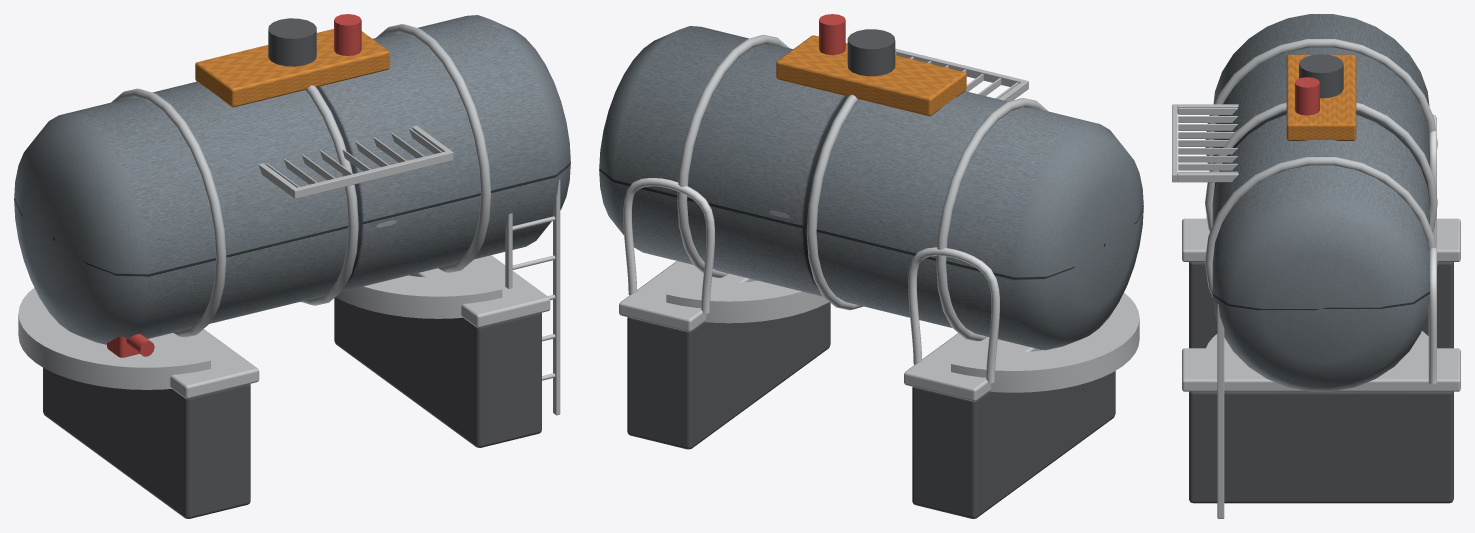
3 renders of one model, left to right at view 1: azimuth 30°, elevation 25°; view 2: azimuth 150°, elevation 25°; view 3: azimuth 270°, elevation 25°, orthographic. The views are drawn at different scales.
Parts seen in each view (by area): view 1: fuel-tank-cradle; view 2: fuel-tank-cradle; view 3: fuel-tank-cradle.
Part boxes in pixels (x1=…): fuel-tank-cradle: x1=14, y1=14, x2=570, y2=518; fuel-tank-cradle: x1=599, y1=14, x2=1143, y2=518; fuel-tank-cradle: x1=1172, y1=14, x2=1460, y2=518.
Bounding box in the file's own units: 3.74 × 2.88 × 2.07.
Materials: 6 (2 with a texture image).
